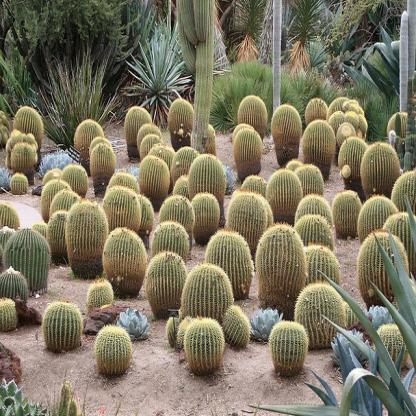Cactus: (356, 231, 406, 301), (258, 226, 302, 304), (207, 226, 253, 298), (102, 228, 148, 297), (5, 229, 51, 293), (66, 204, 109, 272), (295, 285, 345, 343), (183, 265, 230, 320), (146, 251, 185, 313), (269, 320, 309, 379), (229, 190, 272, 244), (361, 140, 400, 195), (265, 169, 306, 221), (42, 303, 83, 354), (185, 320, 224, 372), (96, 324, 132, 380), (360, 195, 398, 246), (104, 186, 141, 237), (188, 154, 226, 203), (301, 246, 341, 292), (235, 92, 269, 142), (160, 192, 193, 243), (270, 102, 301, 156), (72, 118, 104, 165), (304, 117, 336, 164), (329, 188, 361, 235), (165, 95, 198, 140), (297, 216, 334, 256), (13, 104, 45, 149), (375, 324, 407, 369), (338, 136, 370, 180), (138, 153, 170, 195), (40, 179, 72, 220), (296, 193, 334, 227), (192, 190, 219, 236), (234, 129, 263, 170), (127, 102, 152, 144), (295, 165, 325, 200), (90, 146, 116, 185), (224, 305, 249, 344), (60, 164, 89, 196), (304, 94, 330, 129), (88, 280, 112, 314), (12, 142, 34, 172), (0, 295, 18, 331), (10, 171, 28, 194), (337, 122, 356, 142), (345, 110, 359, 128)
